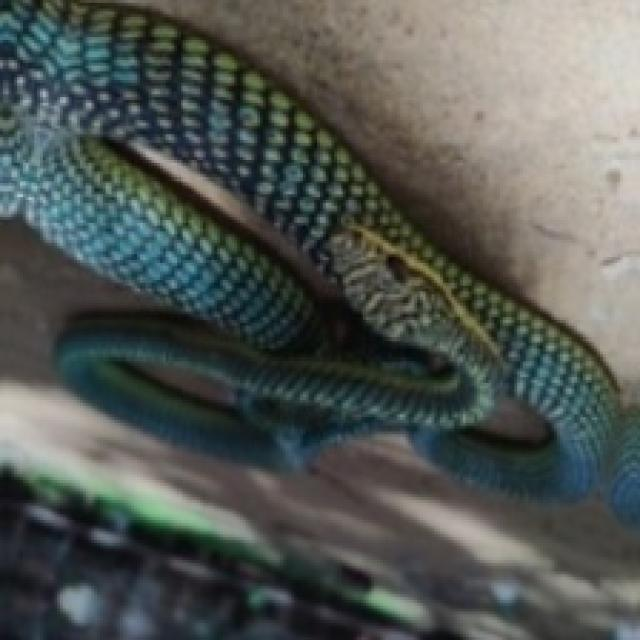paradise tree snake: (0, 0, 637, 520)
